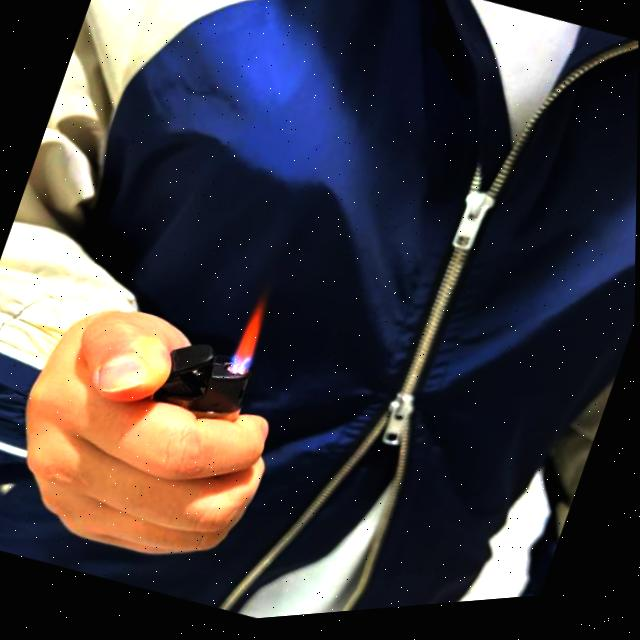Fire: (222, 288, 279, 383)
